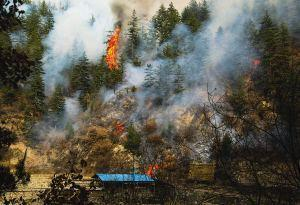fire: (102, 27, 120, 70), (142, 158, 161, 175), (251, 57, 260, 63)
